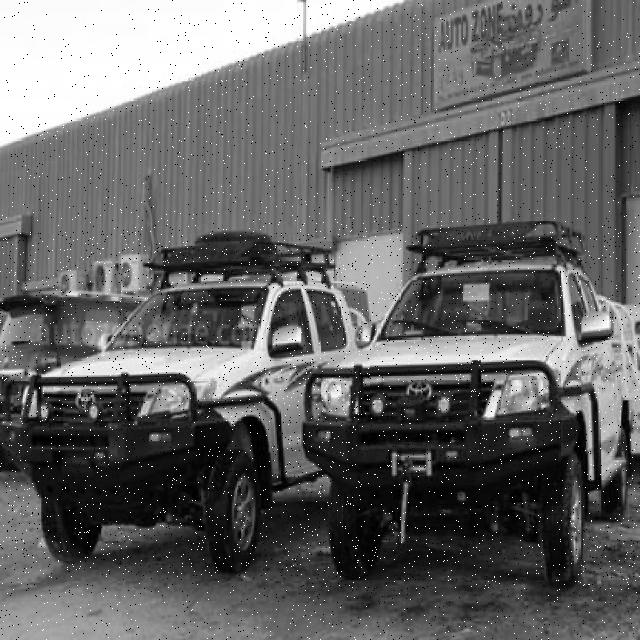Pickup: (0, 231, 370, 576), (303, 222, 640, 590)
